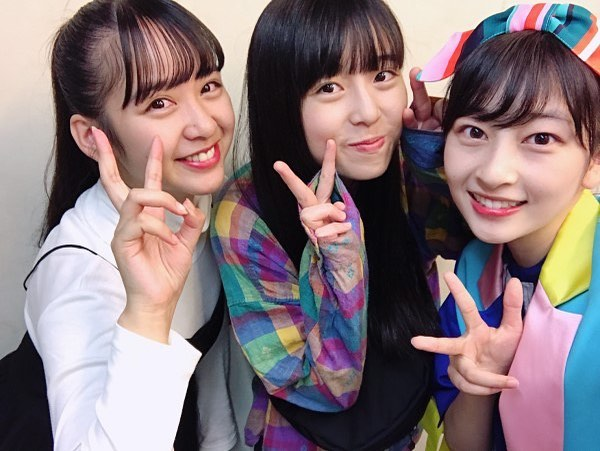face: (69, 14, 234, 193), (442, 62, 600, 246), (301, 16, 407, 179)
hand: (89, 125, 208, 323), (411, 270, 523, 395), (275, 135, 352, 239)
